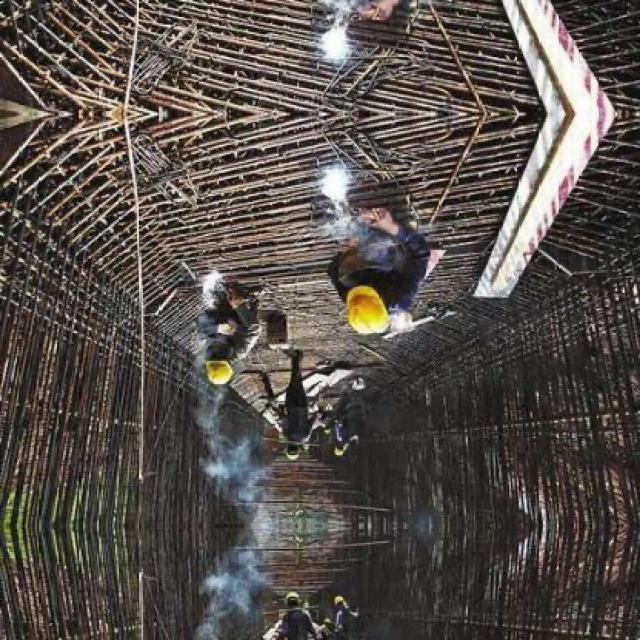con casco: (338, 258, 416, 352), (188, 349, 255, 398)
